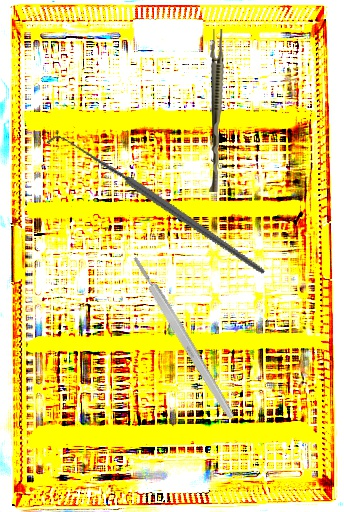Hook Surgical: (45, 78, 268, 334)
Scalpel Handle: (130, 254, 237, 421)
Tissue Forceps: (209, 29, 224, 192)
